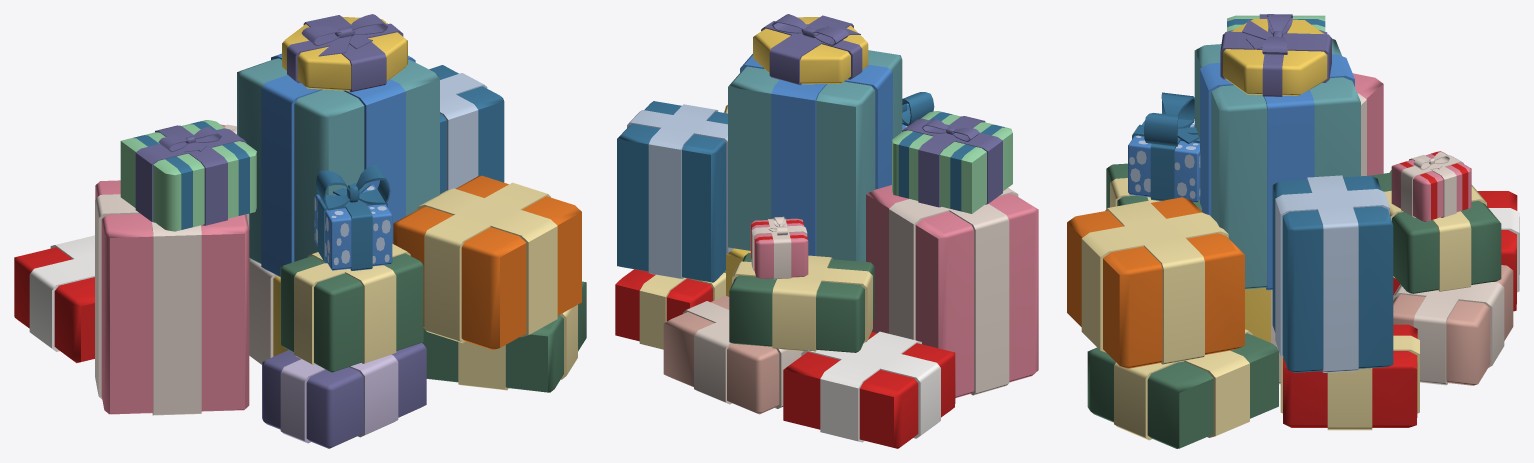
Rendered from Mountain_of_gifts_231109.glb.
3 views of the same model, side by side, from view 1: azimuth 30°, elevation 25°; view 2: azimuth 150°, elevation 25°; view 3: azimuth 270°, elevation 25° (orthographic). The views are drawn at different scales.
Parts seen in each view (by area): view 1: Mountain_of_gifts; view 2: Mountain_of_gifts; view 3: Mountain_of_gifts.
Boxes of the visible parts, x1,y1,x2,y2 form: Mountain_of_gifts: (14, 14, 586, 448); Mountain_of_gifts: (615, 14, 1038, 448); Mountain_of_gifts: (1067, 14, 1519, 448).
Bounding box in the file's own units: 1.52 × 1.1 × 1.36.
1 material, 1 textured.
